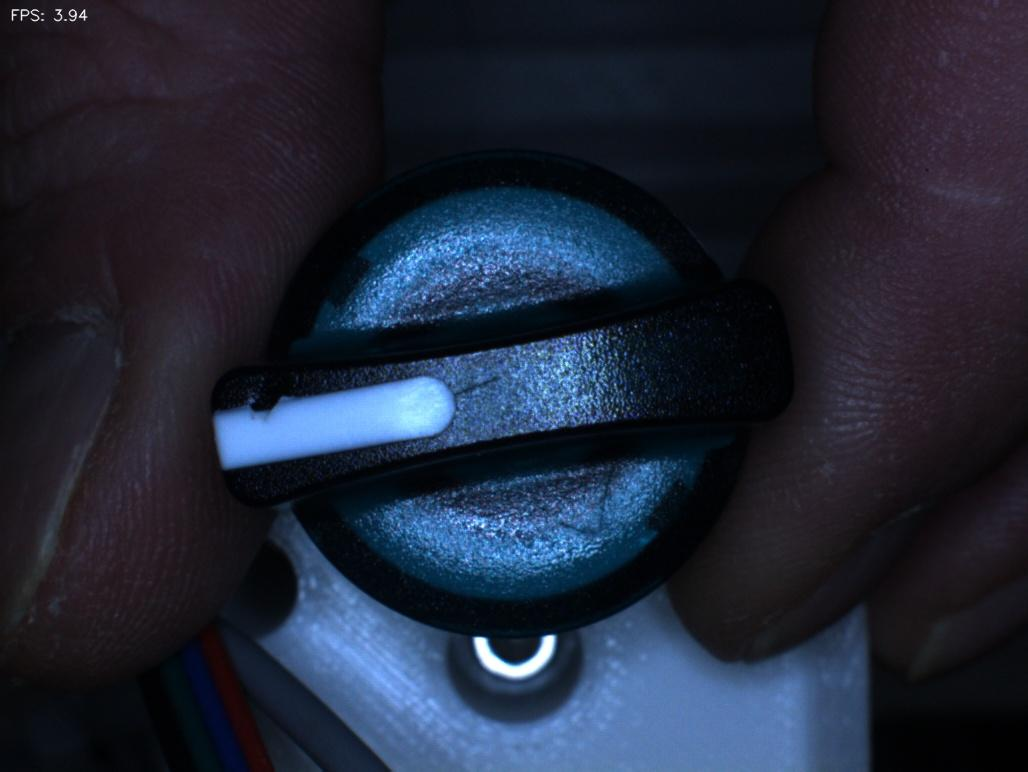Choc: (214, 344, 311, 442)
